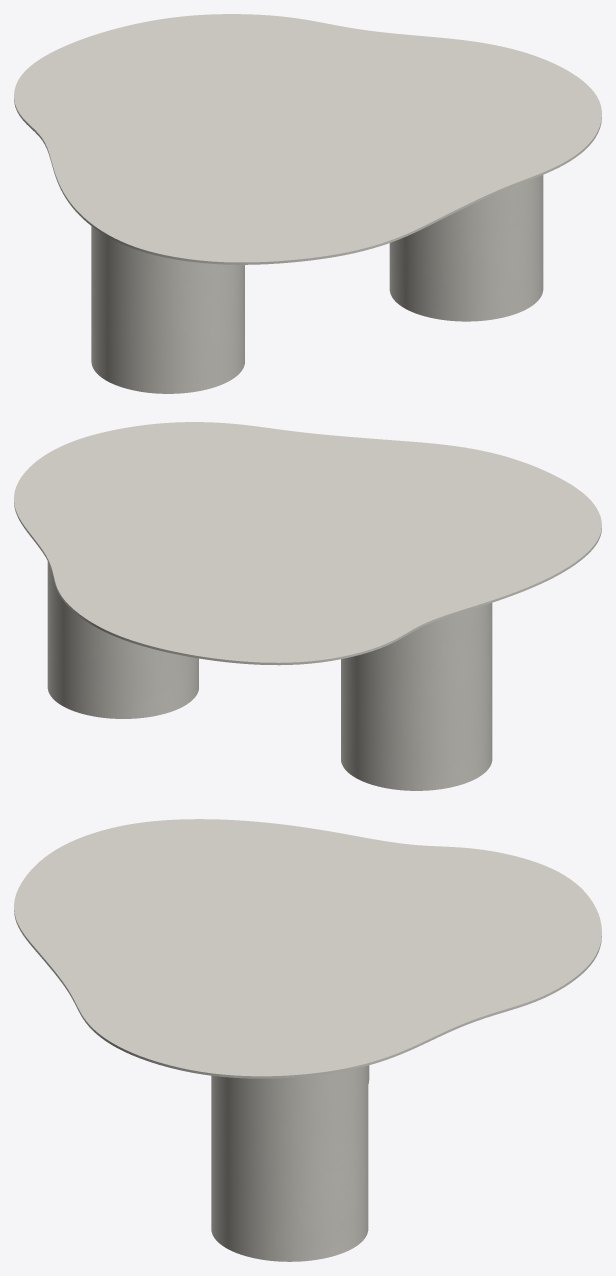
The model's file is pale_topone_facet_stream.glb.
3 views of the same model, one above another, from view 1: azimuth 30°, elevation 25°; view 2: azimuth 150°, elevation 25°; view 3: azimuth 270°, elevation 25° (orthographic). The views are drawn at different scales.
Visible parts, largest first — view 1: facet_topone, stream; view 2: facet_topone, stream; view 3: facet_topone, stream.
Part boxes in pixels (box(x1,y1,x2,y2)): facet_topone: box(14, 14, 601, 264); stream: box(91, 175, 543, 393); facet_topone: box(14, 422, 601, 665); stream: box(47, 561, 492, 790); facet_topone: box(14, 819, 601, 1078); stream: box(211, 1065, 369, 1261).
Size of the model in its own units: 6.83 by 2.5 by 6.6.
1 material, 1 textured.
